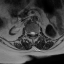CCS_normal: (32, 30, 33, 38)
LFS_normal: (35, 30, 37, 35)
LLS_normal: (33, 30, 35, 36)
RFS_stenosis: (28, 31, 30, 36)
RLS_normal: (30, 30, 32, 36)
